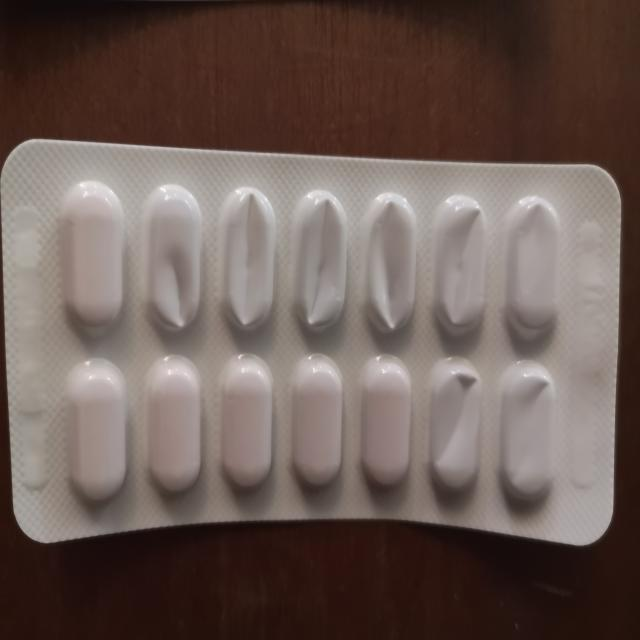Empty: (141, 173, 211, 338), (216, 178, 286, 334), (502, 189, 567, 353), (359, 178, 424, 340), (423, 354, 488, 512), (497, 361, 561, 517), (431, 190, 492, 348), (294, 185, 354, 340)
Pill: (54, 174, 129, 336), (60, 349, 132, 514), (138, 348, 207, 504), (284, 350, 352, 494), (214, 348, 276, 503), (358, 345, 418, 497)
